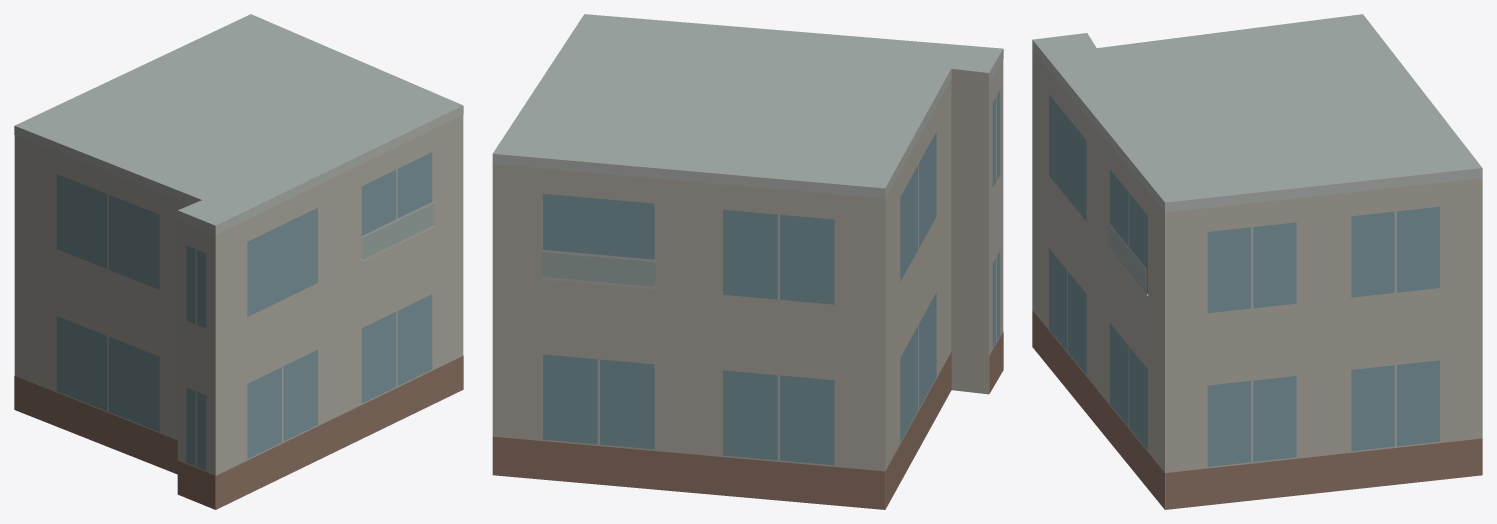
The model's file is survey-upis-32607294.glb.
The picture shows the model from 3 angles, left to right: view 1: azimuth 30°, elevation 25°; view 2: azimuth 150°, elevation 25°; view 3: azimuth 270°, elevation 25°; orthographic projection. The views are drawn at different scales.
Parts seen in each view (by area): view 1: survey-upis-32607294.tmp; view 2: survey-upis-32607294.tmp; view 3: survey-upis-32607294.tmp.
Part boxes in pixels (box(x1,y1,x2,y2)): survey-upis-32607294.tmp: box(14, 14, 463, 509); survey-upis-32607294.tmp: box(492, 14, 1003, 509); survey-upis-32607294.tmp: box(1032, 14, 1482, 509).
Size of the model in its own units: 9.89 by 7.5 by 9.97.
